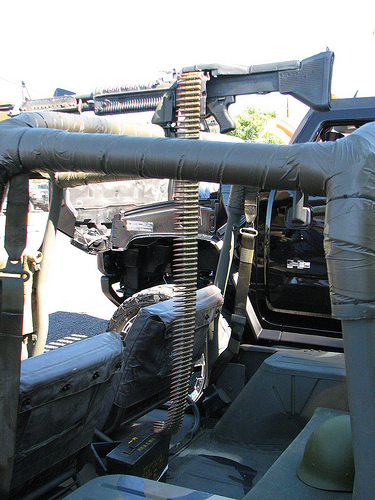rifle: (16, 65, 344, 392)
